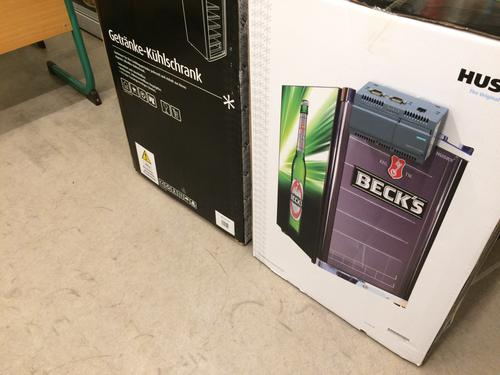iot2000: (348, 82, 451, 167)
